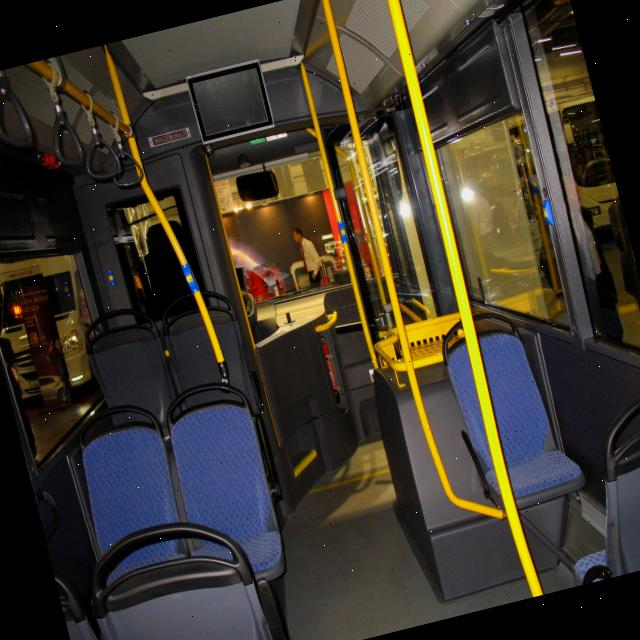empty-seat-frontal: (432, 294, 594, 522), (143, 372, 301, 602), (51, 397, 206, 624)
